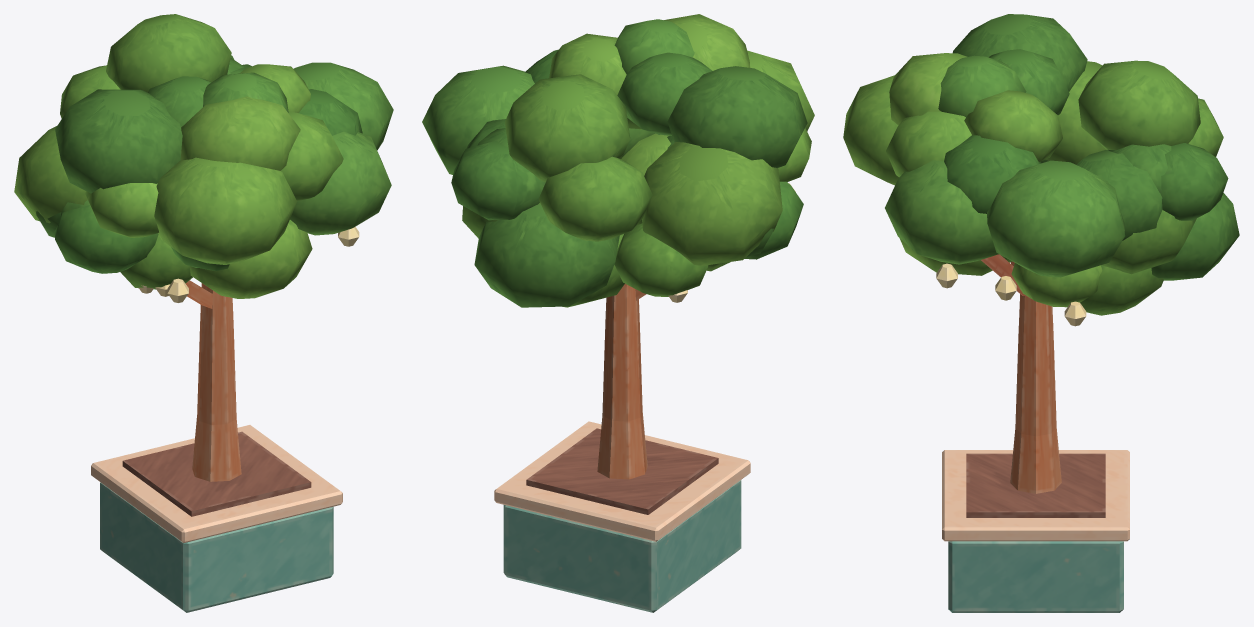
Rendered from tree.fbx.
3 views of the same model, side by side, from view 1: azimuth 30°, elevation 25°; view 2: azimuth 150°, elevation 25°; view 3: azimuth 270°, elevation 25° (orthographic).
Parts seen in each view (by area): view 1: tree; view 2: tree; view 3: tree.
Part boxes in pixels (x1,y1,x2,y2): tree: (14, 14, 393, 612); tree: (422, 14, 814, 612); tree: (843, 14, 1239, 612).
Bounding box in the file's own units: 7.8 × 10.99 × 7.67.
Materials: 1 (1 with a texture image).
